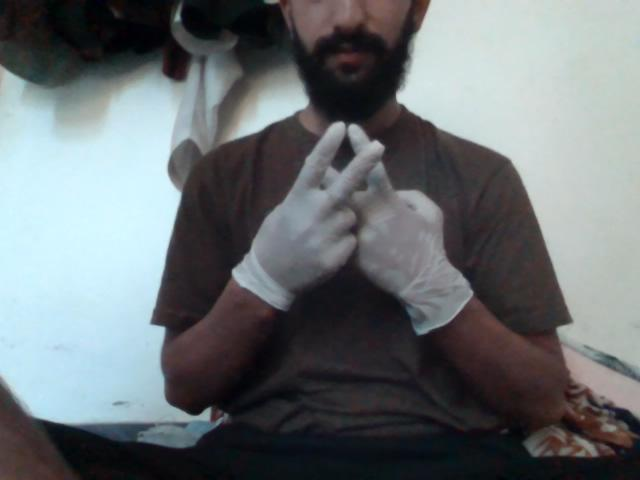gloves: (242, 126, 475, 336)
